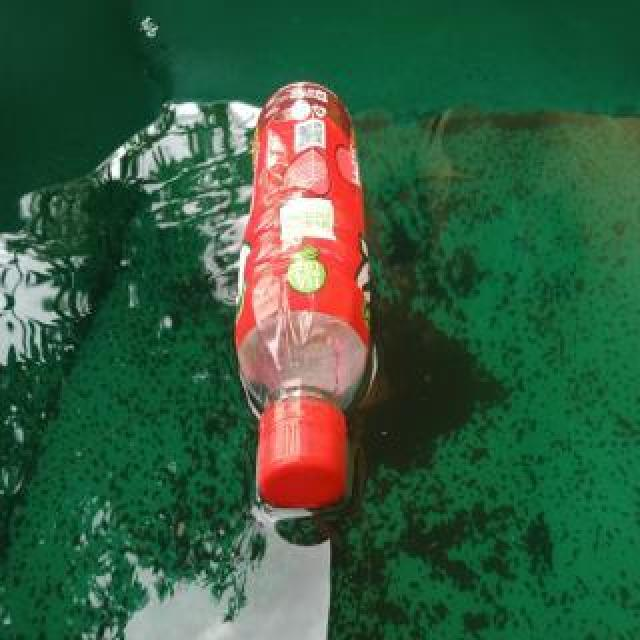bottle: (232, 77, 376, 513)
